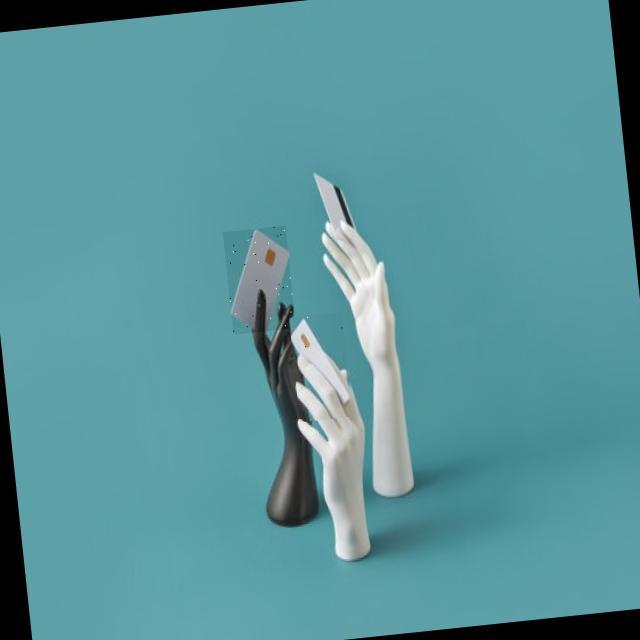payment_card: (222, 225, 290, 333)
